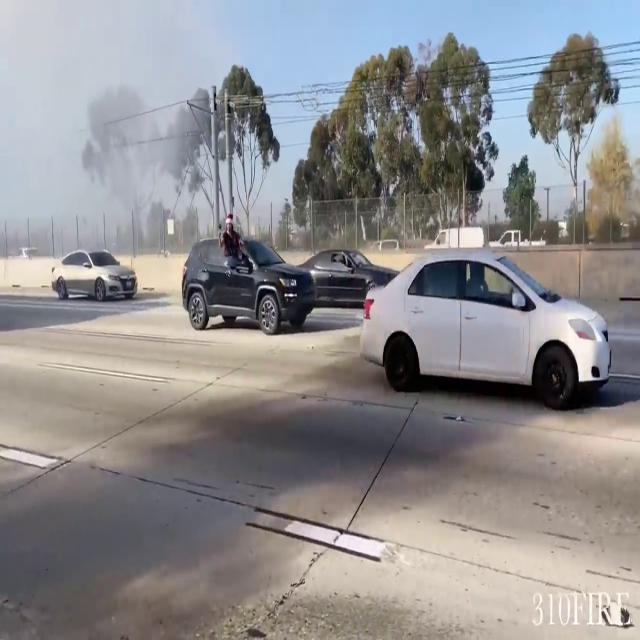Smoke: (0, 1, 196, 253)
